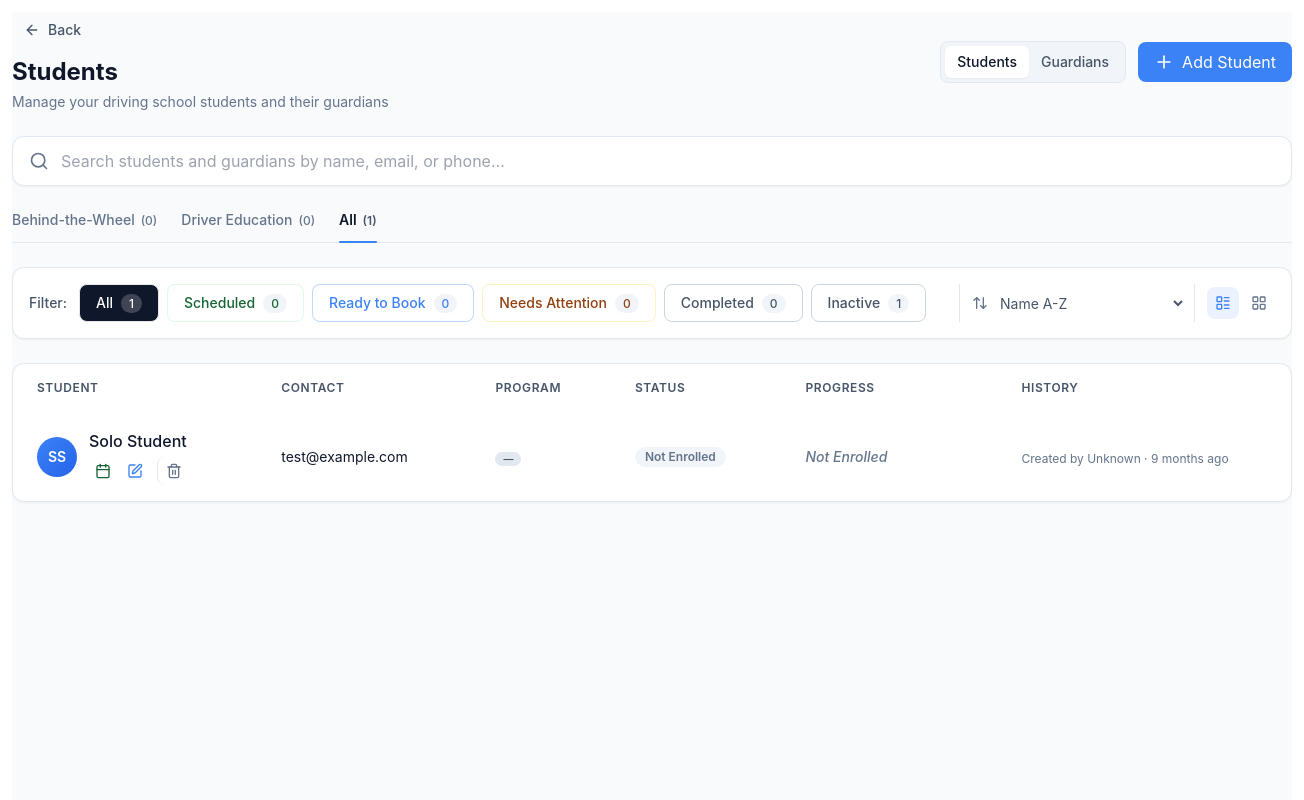
Test: Students list - filter bar is exactly 6 chips › "New This Month" is a stat card, not a filter chip - no filter narrows to it
Expected: the text "Solo Student" is shown, [89, 429, 187, 453]
Click the tab "Behind-the-Wheel(0)".
click(85, 226)  # box [12, 210, 157, 242]
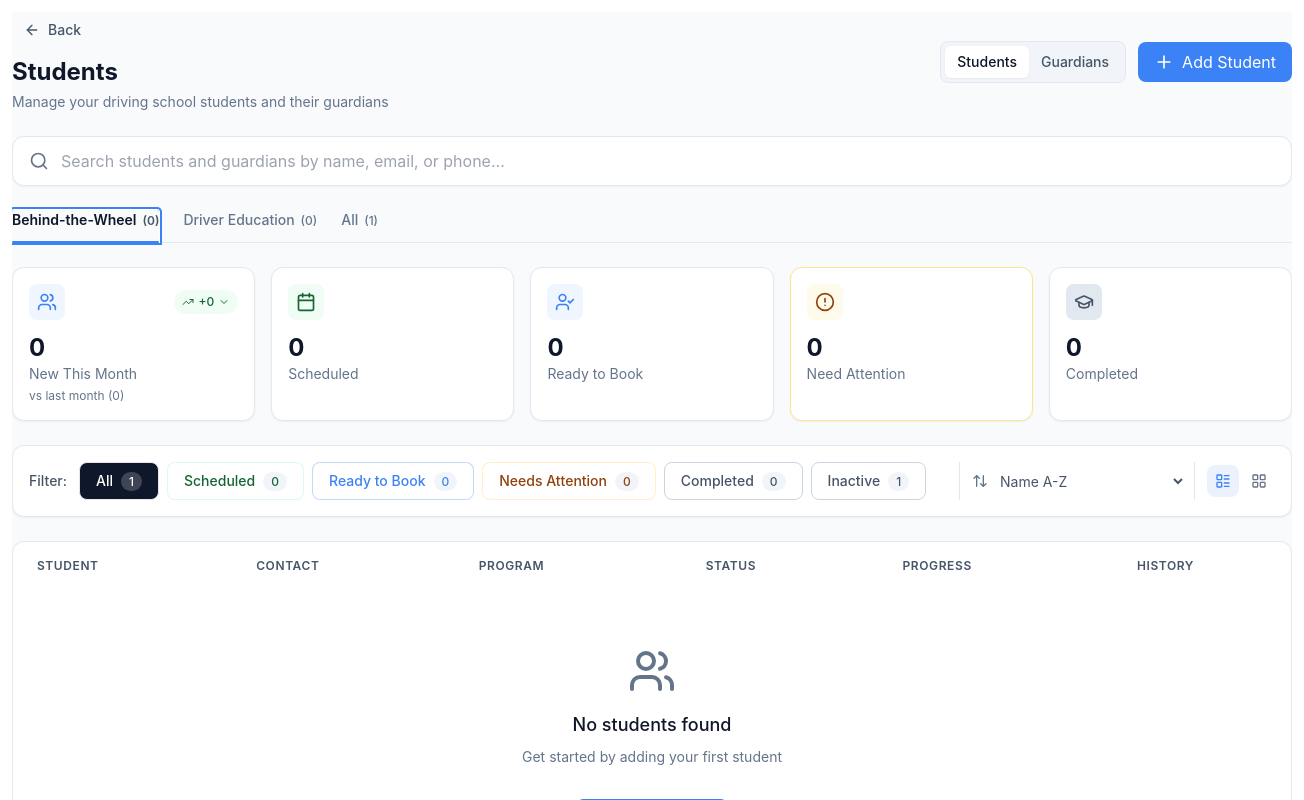
Expected: the text "New This Month" is shown, [29, 365, 137, 382]
